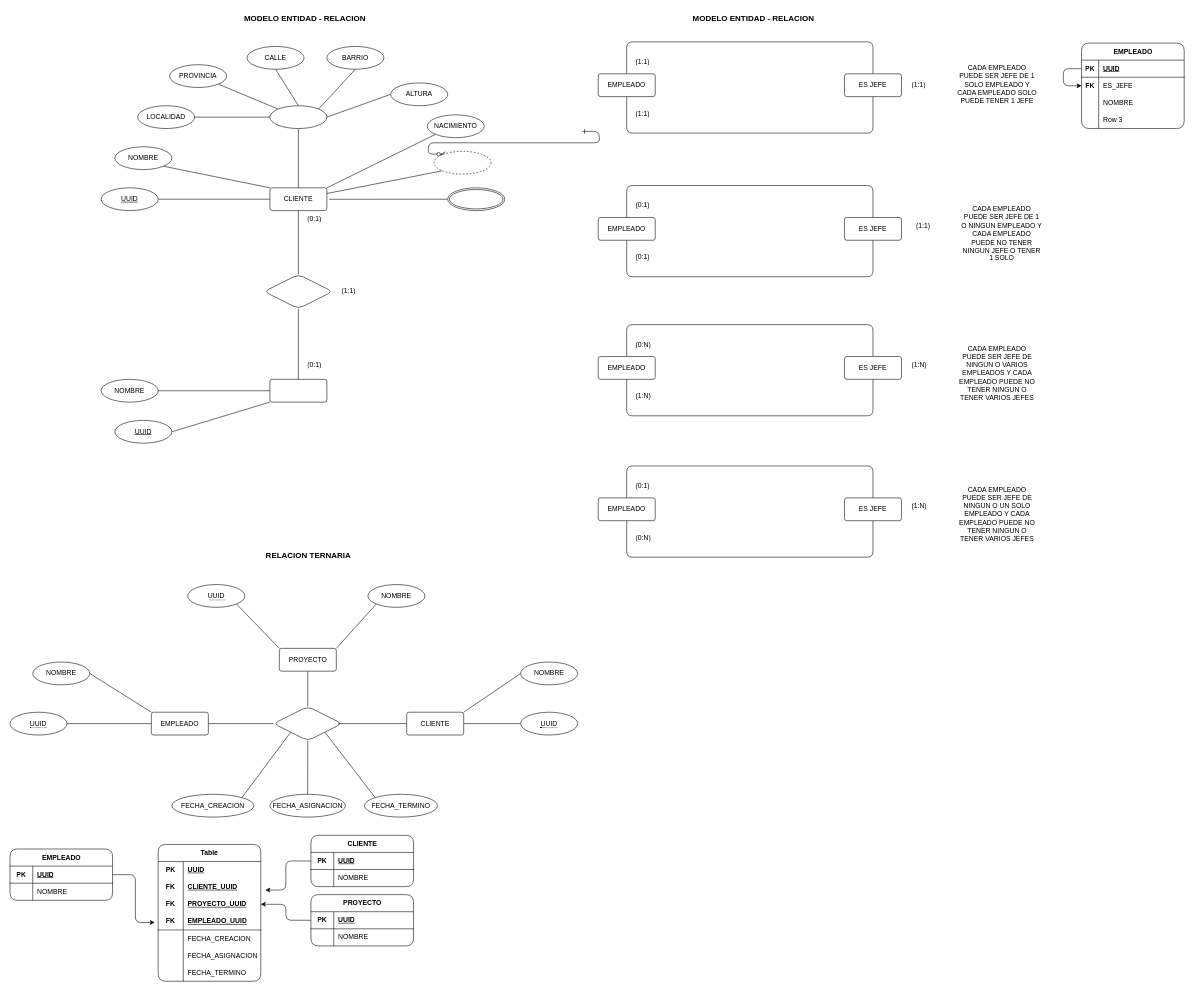
This 1194x991 diagram has some shape labels left out. Here are the shapes that lost their labels. From the top down, the centre of each, then its label:
At [298,117]: "DIRECCION".
At [462,162]: "EDAD".
At [476,199]: "TELEFONO".
At [298,291]: "TIENE".
At [298,390]: "GESTOR".
At [307,723]: "ASIGNADO".
